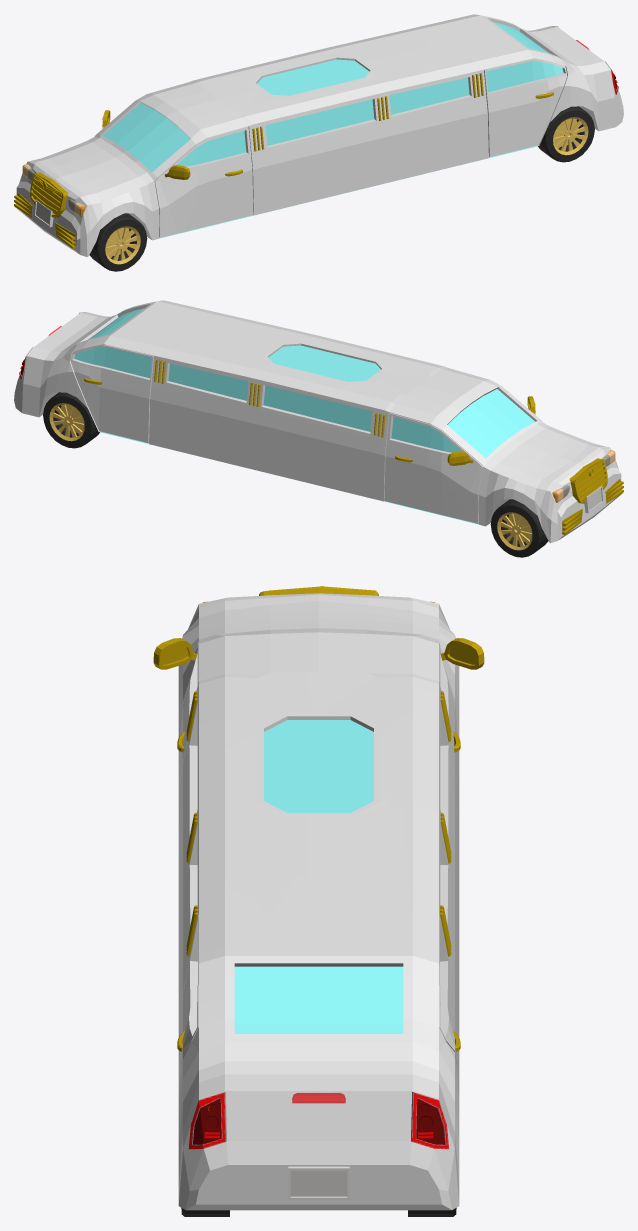
The model's file is Limousine.fbx.
3 views of the same model, one above another, from view 1: azimuth 30°, elevation 25°; view 2: azimuth 150°, elevation 25°; view 3: azimuth 270°, elevation 25° (orthographic). The views are drawn at different scales.
Visible parts, largest first — view 1: Cube.022, Circle.012, Circle.014; view 2: Cube.022, Circle.013, Circle.015; view 3: Cube.022.
Boxes of the visible parts, x1,y1,x2,y2 form: Cube.022: (14,14,623,257); Circle.012: (89,213,147,271); Circle.014: (538,106,594,162); Cube.022: (14,300,623,543); Circle.013: (490,499,548,557); Circle.015: (43,392,99,448); Cube.022: (153,586,484,1210).
Bounding box in the file's own units: 4.2 × 1.09 × 0.8363.
Materials: 2 (2 with a texture image).
